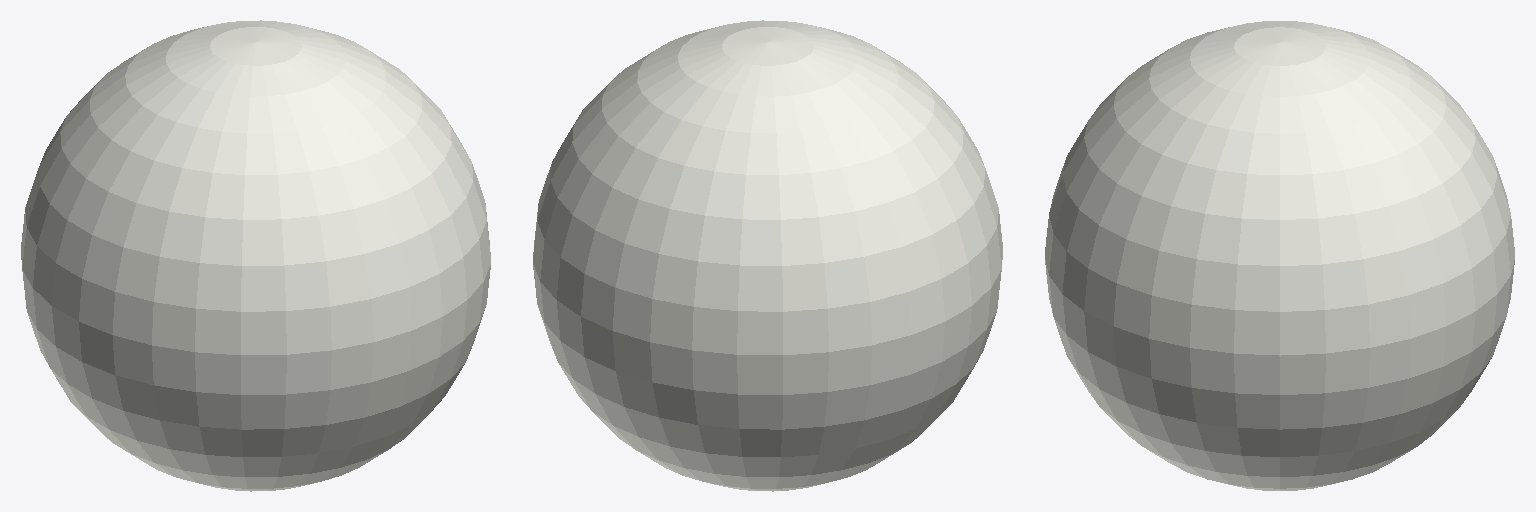
The robot description file, URDF, robot "bowl_white":
<?xml version="1.0"?>
<robot name="bowl_white">
  <link name="base_link">
    <inertial>
      <origin xyz="0 0 0.022500" rpy="0 0 0"/>
      <mass value="0.3"/>
      <inertia ixx="0.00067500" ixy="0" ixz="0" iyy="0.00067500" iyz="0" izz="0.00067500"/>
    </inertial>
    <visual>
      <origin xyz="0 0 0.022500" rpy="0 0 0"/>
      <geometry><sphere radius="0.075"/></geometry>
      <material name="bowl_white_mat">
        <color rgba="0.95 0.95 0.92 1.0"/>
      </material>
    </visual>
    <collision>
      <origin xyz="0 0 0.022500" rpy="0 0 0"/>
      <geometry><sphere radius="0.075"/></geometry>
    </collision>
  </link>
</robot>

--- What the picture shows (computed from the rendered views, not written in the file) ---
Views: 3 orthographic renders of the robot side by side, from view 1: azimuth 30°, elevation 25°; view 2: azimuth 150°, elevation 25°; view 3: azimuth 270°, elevation 25°.
Robot: bowl_white — 1 links, 0 joints (none); root link base_link; default pose: all joints at 0.
Links seen in each view (by area): view 1: base_link; view 2: base_link; view 3: base_link.
Link boxes in pixels (left/top/right/bottom): base_link: left=21, top=20, right=490, bottom=491; base_link: left=533, top=20, right=1002, bottom=491; base_link: left=1045, top=21, right=1514, bottom=490.
Size in the robot's own frame: 0.15 by 0.15 by 0.15 metres.
Geometry: primitives only (box / cylinder / sphere), no mesh files.
